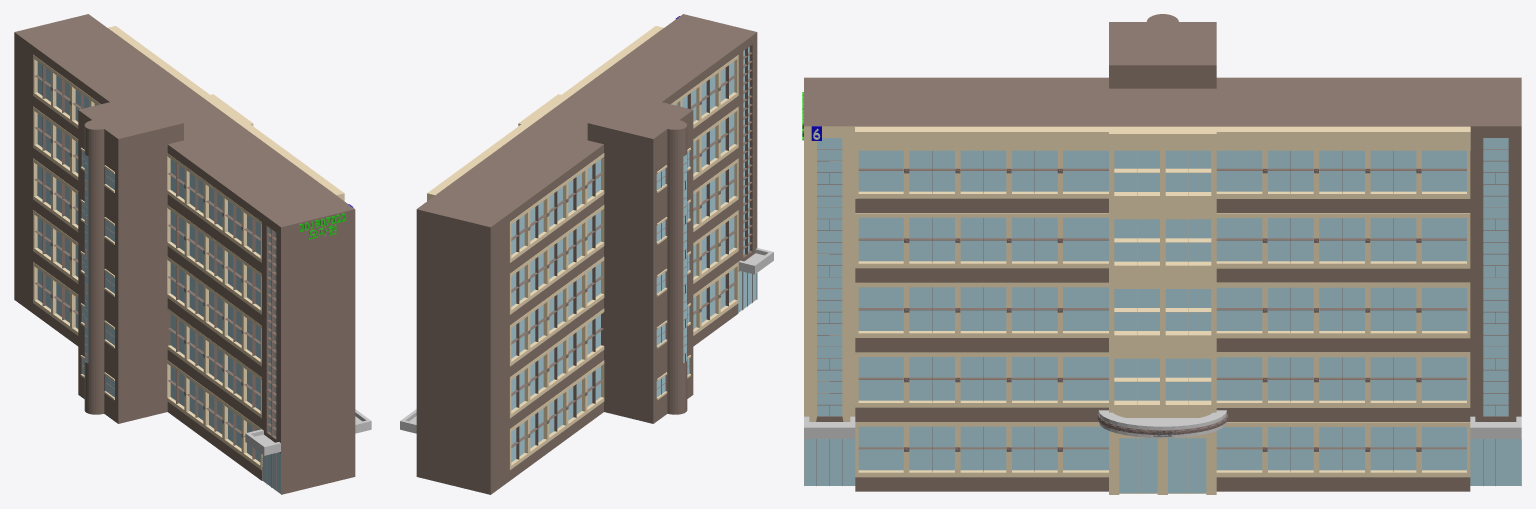
The model's file is 6building_2.glb.
3 views of the same model, side by side, from view 1: azimuth 30°, elevation 25°; view 2: azimuth 150°, elevation 25°; view 3: azimuth 270°, elevation 25° (orthographic). The views are drawn at different scales.
Parts seen in each view (by area): view 1: main, right-side-building, 5,6사이건물, 후면창문, left-side-building, Cube.042, Cube.001, Cube.056, Cube.057, Cube.058, Cube.059, Cube.044 (+5 smaller); view 2: main, left-side-building, 5,6사이건물, 후면창문, Cube.042, right-side-building, Cube.001, Cube.059, Cube.044, Cube.058, Cube.057, Cube.056 (+5 smaller); view 3: 정면창문, main, Cube.036, center, Cube.001, left-side-building, right-side-building, Cube.078, Cube.025, Cube.047, Cube.049, Cube.051 (+11 smaller).
Boxes of the visible parts, box(x1,y1,x2,y2) form: main: box(33, 28, 335, 480); right-side-building: box(262, 195, 355, 494); 5,6사이건물: box(78, 106, 134, 423); 후면창문: box(37, 62, 260, 461); left-side-building: box(14, 14, 106, 313); Cube.042: box(33, 54, 100, 335); Cube.001: box(108, 26, 344, 200); Cube.056: box(167, 309, 261, 418); Cube.057: box(167, 257, 261, 366); Cube.058: box(167, 205, 261, 314); Cube.059: box(167, 153, 261, 262); Cube.044: box(167, 360, 262, 470); main: box(436, 28, 738, 480); left-side-building: box(416, 195, 509, 494); 5,6사이건물: box(629, 106, 693, 423); 후면창문: box(511, 61, 734, 462); Cube.042: box(509, 153, 604, 469); right-side-building: box(664, 14, 757, 309); Cube.001: box(427, 26, 663, 201); Cube.059: box(671, 55, 738, 128); Cube.044: box(693, 262, 738, 335); Cube.058: box(693, 106, 738, 180); Cube.057: box(693, 158, 738, 231); Cube.056: box(693, 210, 738, 283); 정면창문: box(858, 150, 1467, 470); main: box(855, 24, 1470, 491); Cube.036: box(1216, 143, 1470, 477); center: box(1109, 129, 1216, 493); Cube.001: box(855, 126, 1470, 150); left-side-building: box(1470, 77, 1521, 485); right-side-building: box(804, 77, 855, 485); Cube.078: box(1483, 138, 1508, 369); Cube.025: box(817, 138, 842, 369); Cube.047: box(855, 352, 1108, 407); Cube.049: box(855, 282, 1108, 337); Cube.051: box(855, 213, 1108, 268).
Size of the model in its own units: 103 by 165 by 281.
